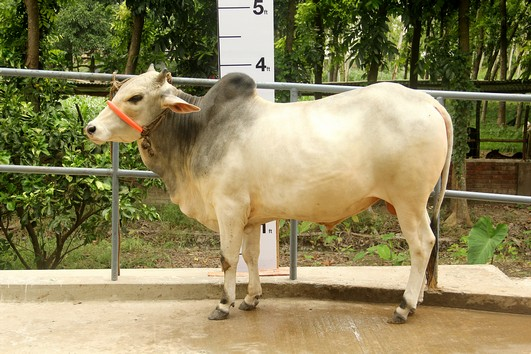cow: (83, 59, 457, 328)
